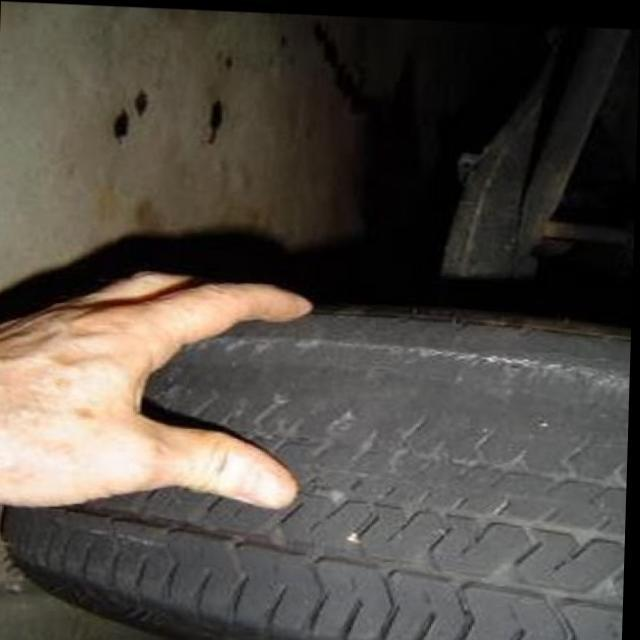Flat spots: (258, 326, 632, 444)
